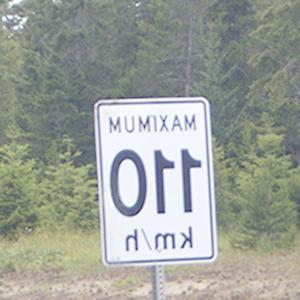speed limit sign: (101, 98, 213, 267)
